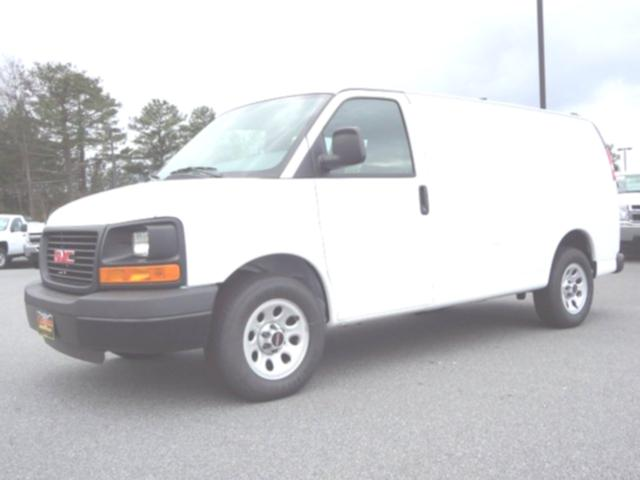GMC: (45, 244, 84, 269)
